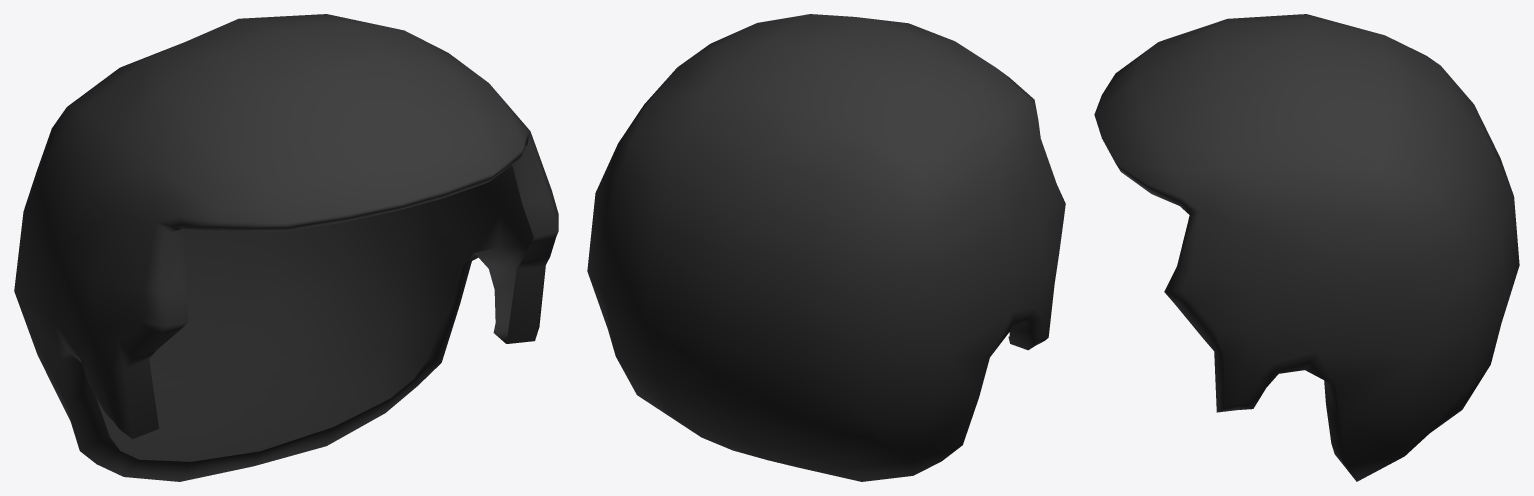
File: Hair_Black_1.fbx
3 renders of one model, left to right at view 1: azimuth 30°, elevation 25°; view 2: azimuth 150°, elevation 25°; view 3: azimuth 270°, elevation 25°, orthographic. The views are drawn at different scales.
Parts seen in each view (by area): view 1: Hair_Black_1; view 2: Hair_Black_1; view 3: Hair_Black_1.
Boxes of the visible parts, <box> form: Hair_Black_1: <box>14,14,558,481</box>; Hair_Black_1: <box>587,14,1065,481</box>; Hair_Black_1: <box>1094,14,1519,481</box>.
Bounding box in the file's own units: 52.84 × 51.31 × 48.92.
